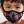with_mask: (1, 2, 24, 24)
